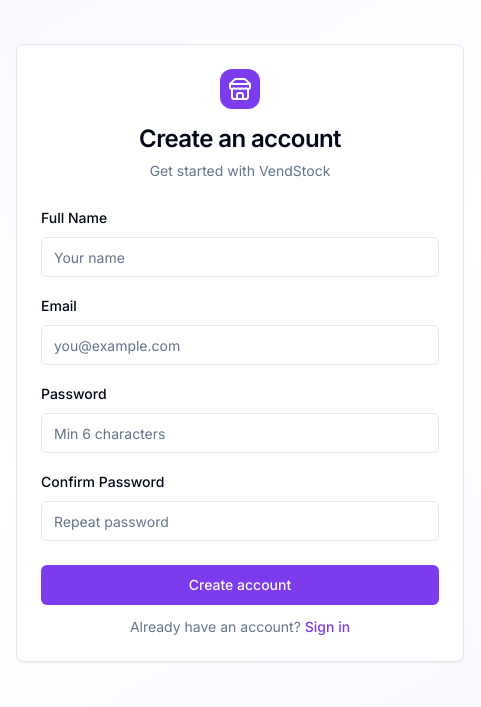
Test: RegisterPage › shows validation error for empty email field
This screenshot has width=481, height=707.
Type "Test User" into the field labelled "Full Name" at (240, 257), box [41, 237, 439, 277]
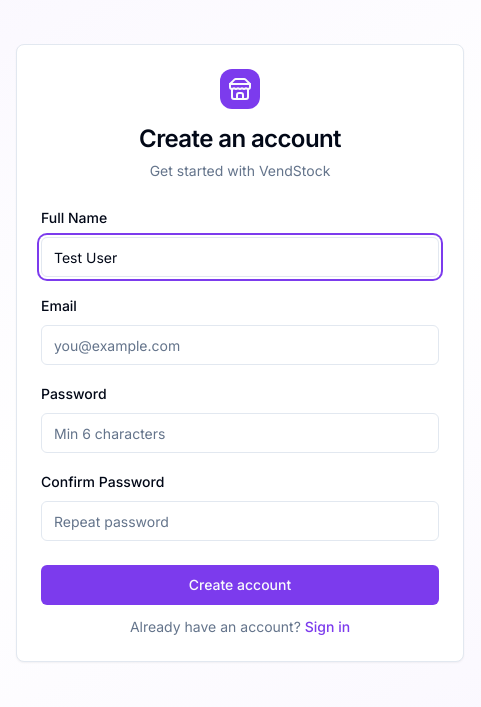
Leave email empty, type something and clear it
Click the button "Create account" at (240, 585), box [41, 565, 439, 605]
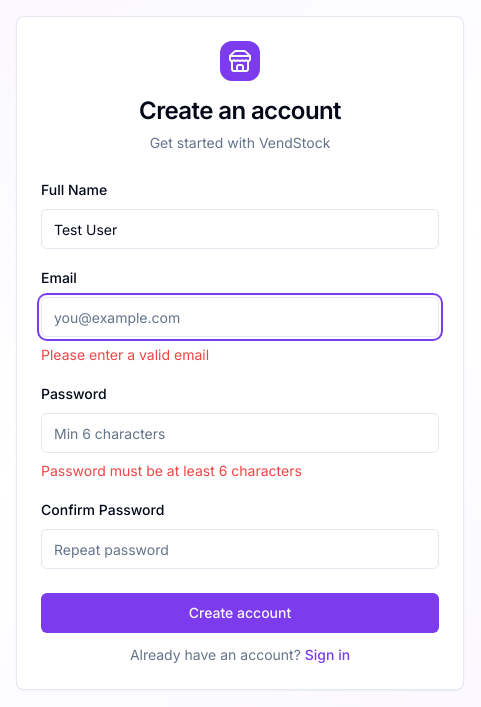
expect the text "Please enter a valid email" is shown: met, box [41, 346, 209, 363]
